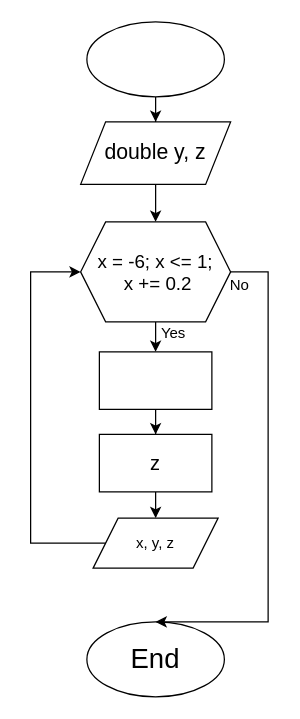
The diagram is 300 pixels wide and 719 high, and some of its shapes have lost their labels. The shapes that lost their labels are listed below. From the top down, each one's centre as x and y in pixels, then its label:
At (155,59): "Start".
At (155,380): "y = e x".
